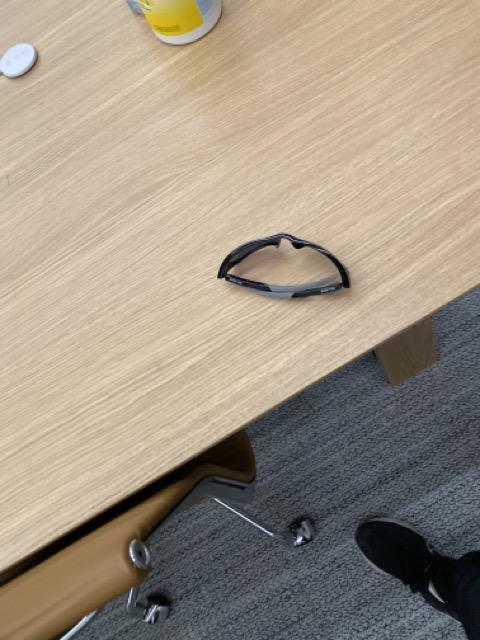Sunglasses: (216, 231, 351, 299)
